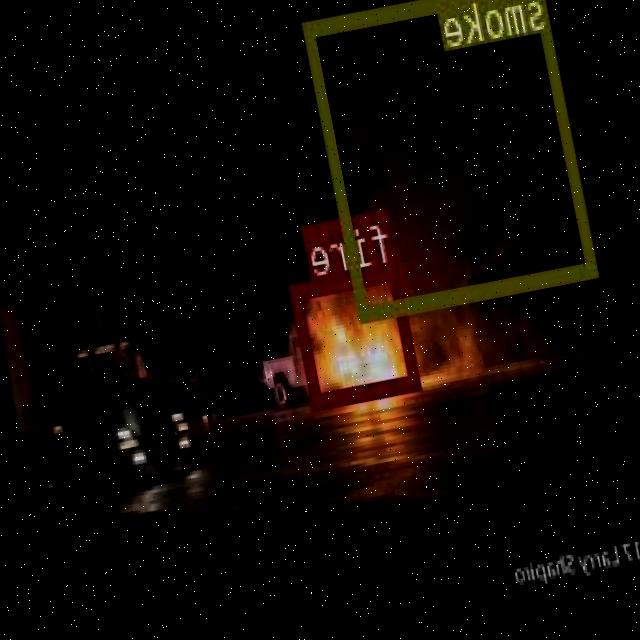fire: (291, 262, 424, 405)
smoke: (303, 0, 600, 318)
